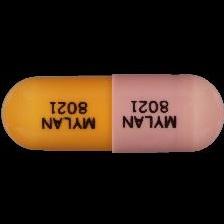0378-8021: (0, 0, 224, 224)
